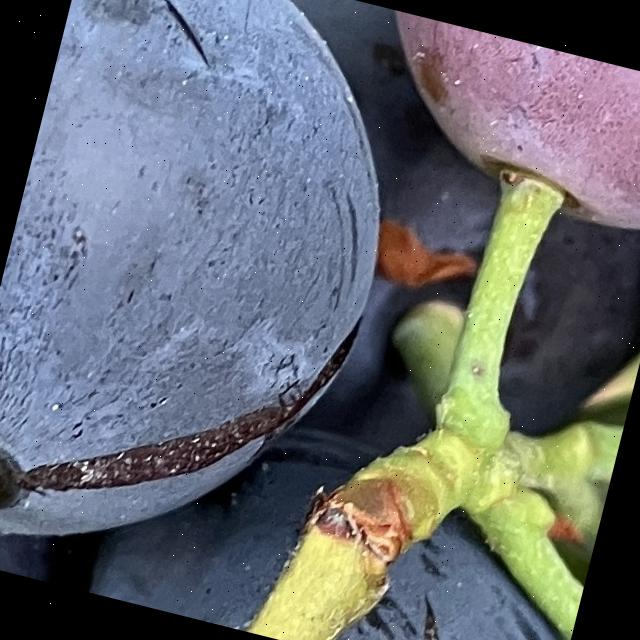Blueberries: (313, 1, 640, 289)
